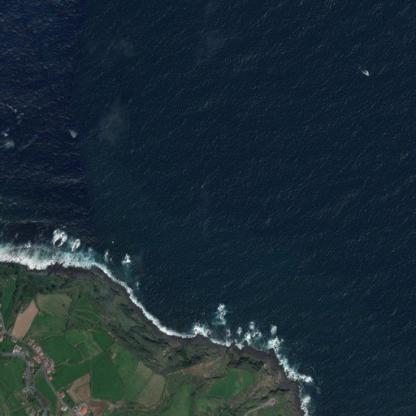ship: (365, 72, 368, 75)
